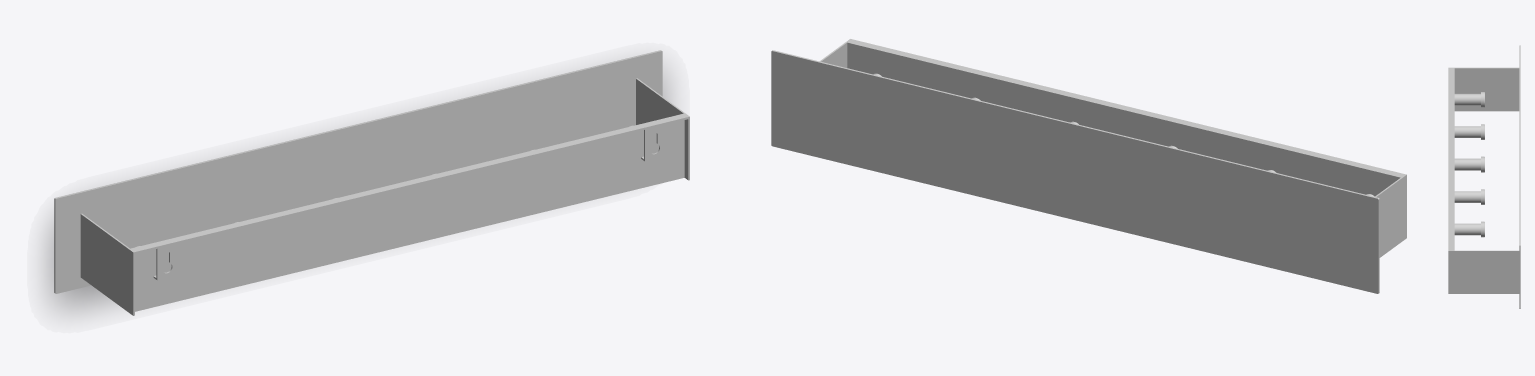
The model's file is skyline-hook.8b5277fc9e.ar.glb.
The picture shows the model from 3 angles, left to right: view 1: azimuth 30°, elevation 25°; view 2: azimuth 150°, elevation 25°; view 3: azimuth 270°, elevation 25°; orthographic projection. The views are drawn at different scales.
Visible parts, largest first — view 1: NAUO1, object 2; view 2: NAUO1; view 3: NAUO1.
Part boxes in pixels (x1=…): NAUO1: x1=54, y1=50, x2=689, y2=315; object 2: x1=46, y1=77, x2=669, y2=310; NAUO1: x1=771, y1=39, x2=1406, y2=293; NAUO1: x1=1448, y1=45, x2=1520, y2=308.
Bounding box in the file's own units: 0.68 × 0.17 × 0.092.
Materials: 2 (1 with a texture image).
